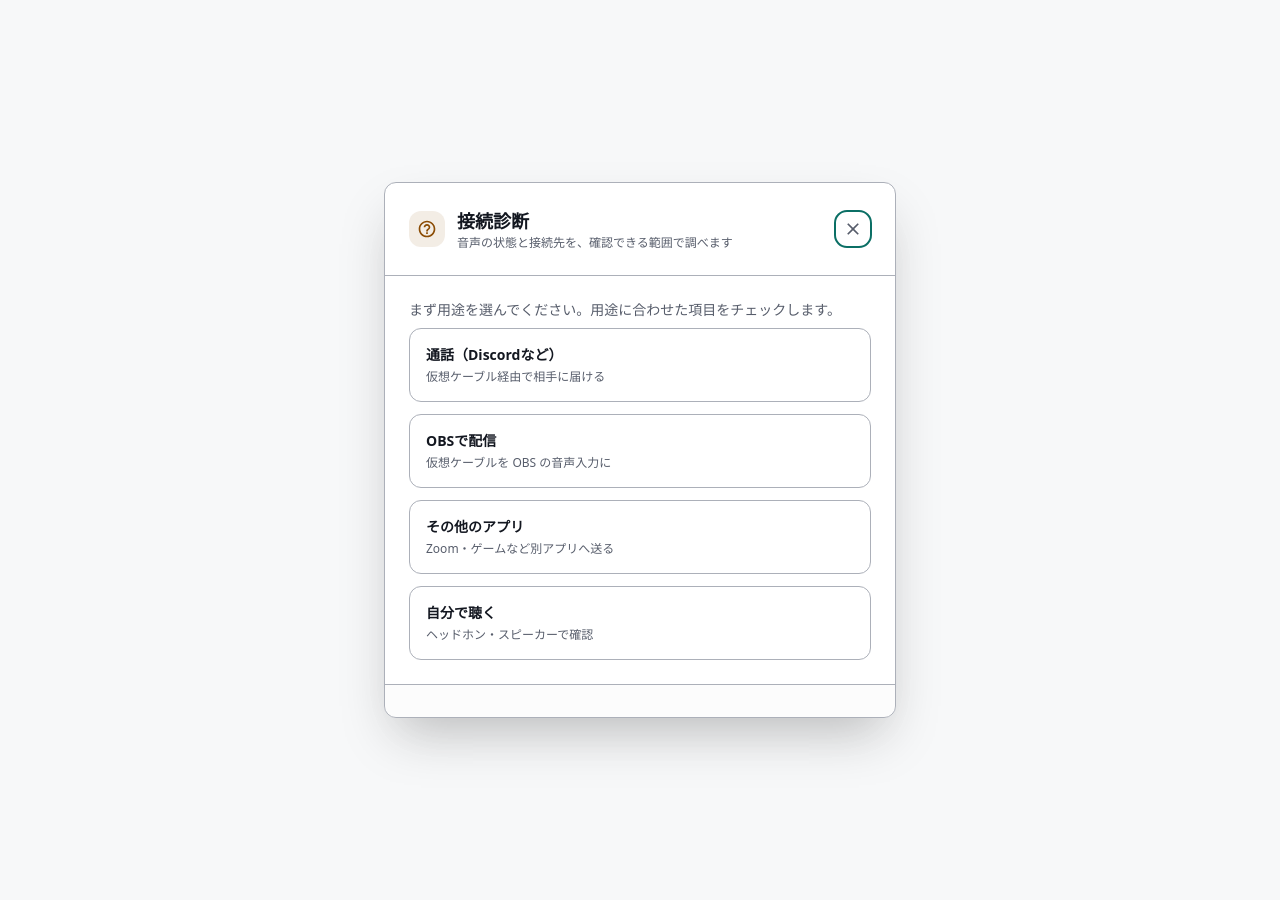
Test: CABLE Inputの到達確認は、同じ系統・ホストのOutputだけを検査する
Click the button "OBSで配信 仮想ケーブルを OBS の音声入力に".
click(461, 440)  # box [409,414,871,488]
Wait 6100 ms
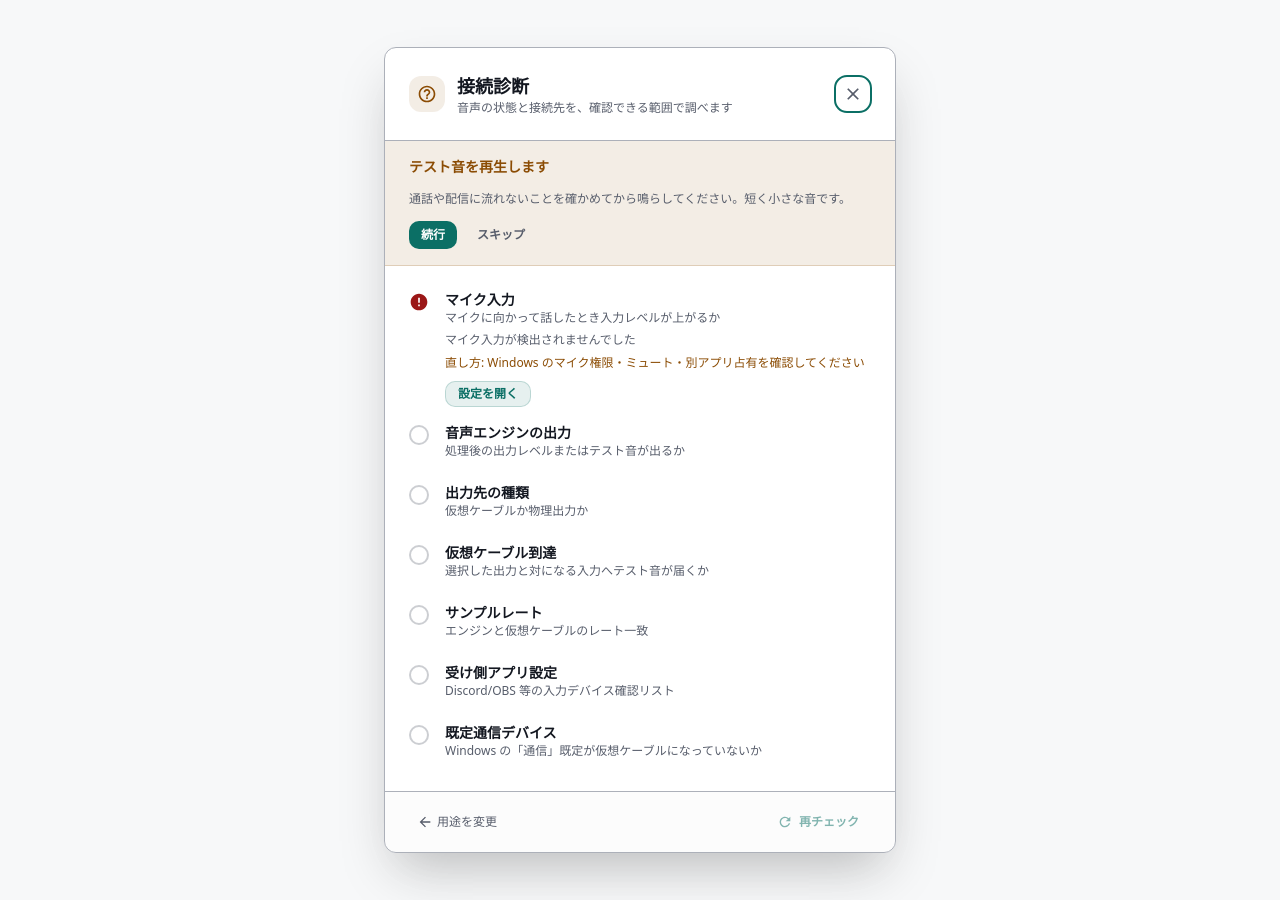
Click the button "スキップ".
click(501, 235)  # box [465,221,537,249]
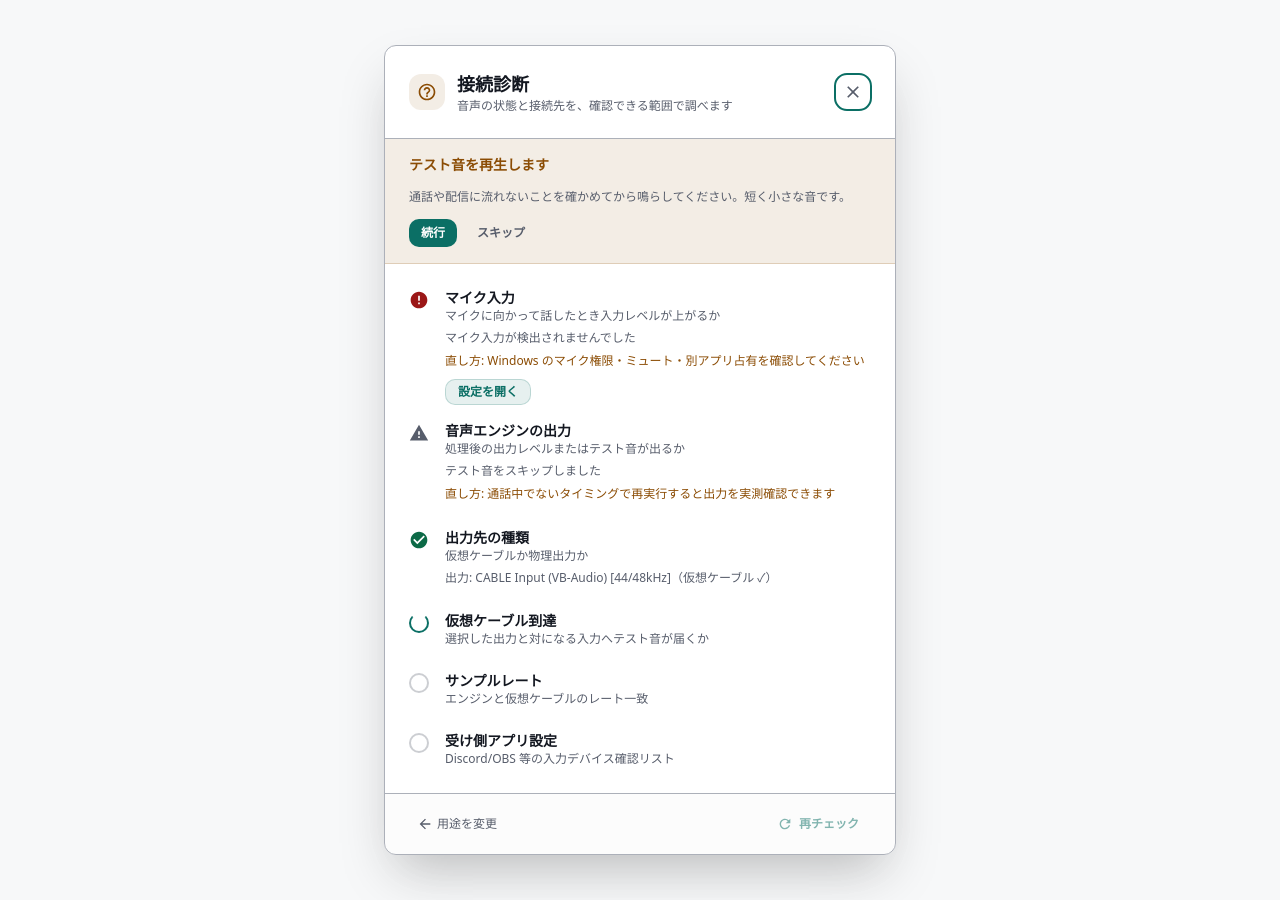
Click the button "続行".
click(433, 232)  # box [409,218,457,246]
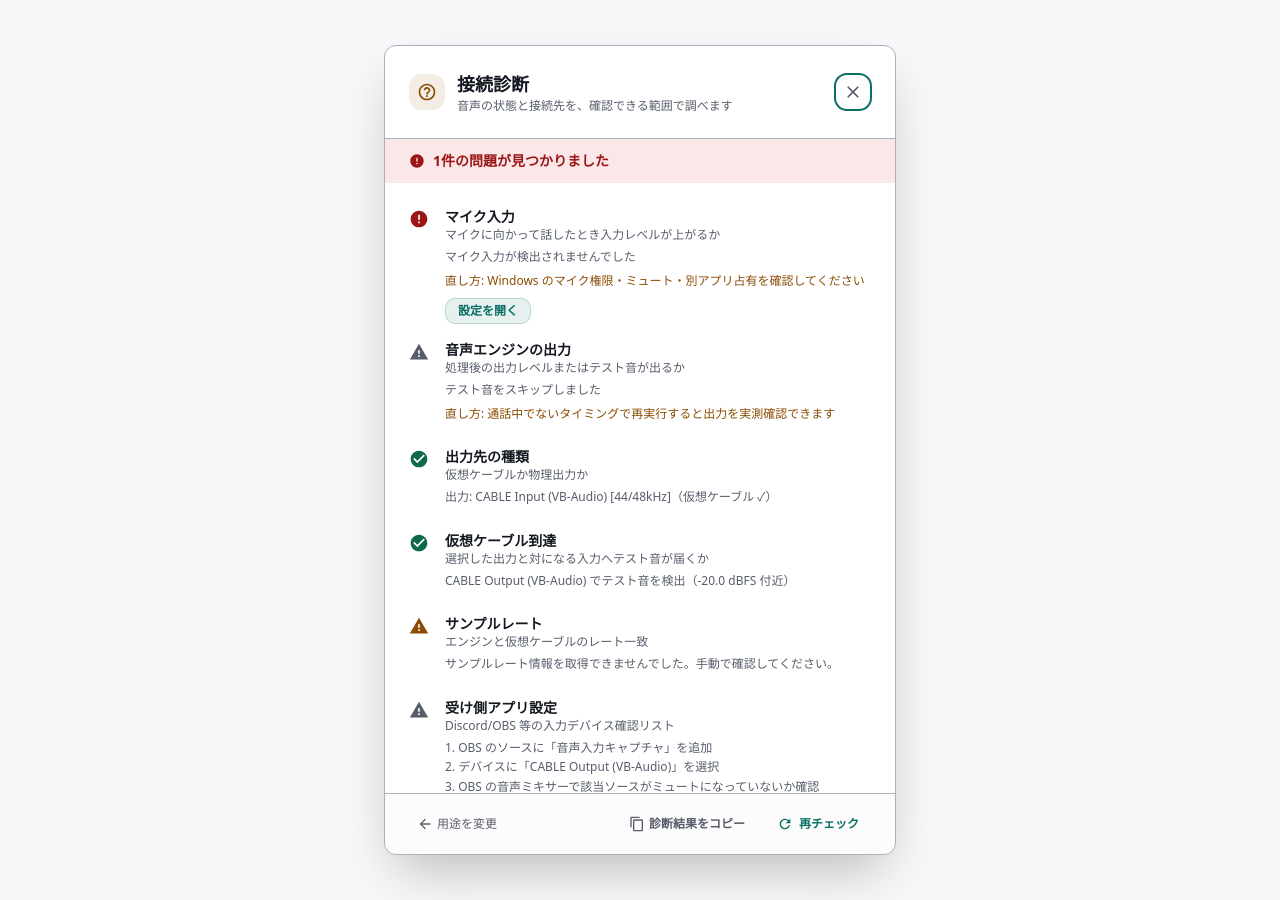
expect the text "OBS のソースに" shows "CABLE Output": met, box [445,738,829,793]
